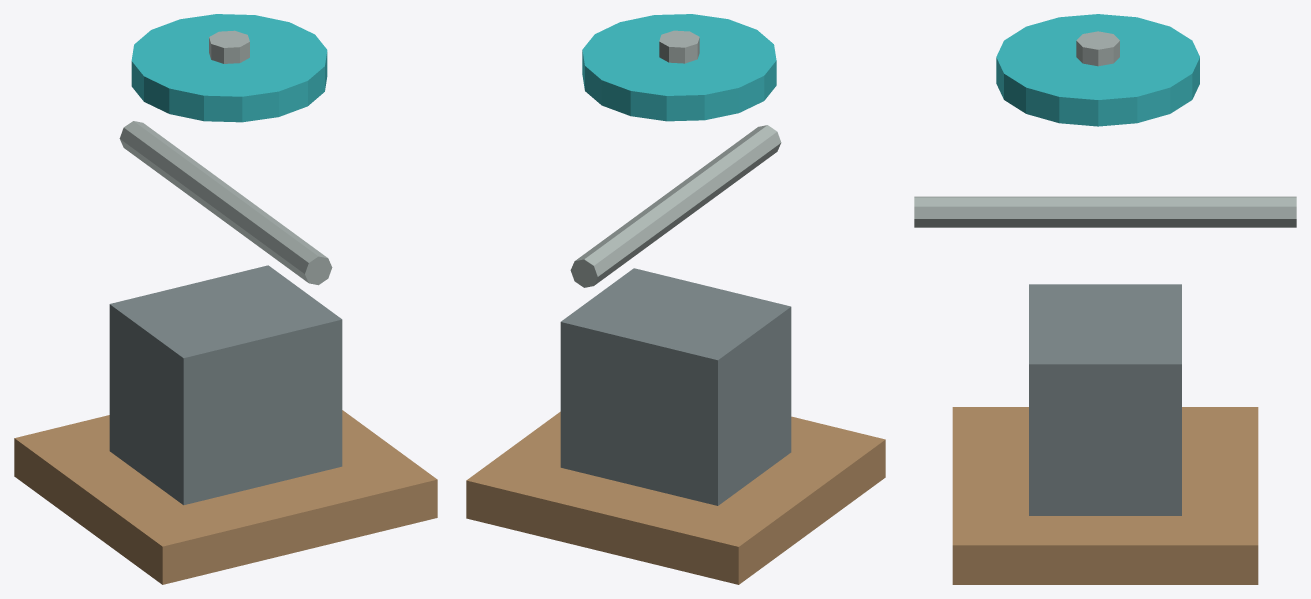
File: radar_station.glb
3 renders of one model, left to right at view 1: azimuth 30°, elevation 25°; view 2: azimuth 150°, elevation 25°; view 3: azimuth 270°, elevation 25°, orthographic. The views are drawn at different scales.
Visible parts, largest first — view 1: console, foundation, dish, mast, dish_pivot; view 2: console, foundation, dish, mast, dish_pivot; view 3: foundation, console, dish, mast, dish_pivot.
Part boxes in pixels (x1,y1,x2,y2): console: (109, 265, 342, 505); foundation: (14, 410, 437, 584); dish: (131, 14, 327, 122); mast: (119, 121, 332, 285); dish_pivot: (209, 30, 249, 63); console: (560, 268, 791, 505); foundation: (466, 411, 885, 584); dish: (582, 14, 776, 121); mast: (570, 125, 781, 287); dish_pivot: (659, 30, 699, 63); foundation: (952, 407, 1258, 584); console: (1029, 284, 1181, 515); dish: (996, 14, 1199, 126); mast: (914, 196, 1296, 227); dish_pivot: (1076, 31, 1119, 66).
Size of the model in its own units: 0.9 by 1.44 by 1.05.
